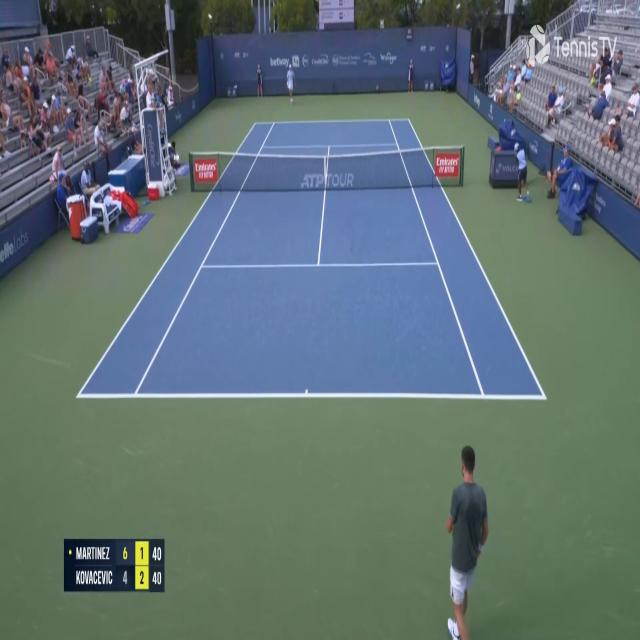tennis-player: (444, 440, 489, 638), (286, 63, 296, 106)
